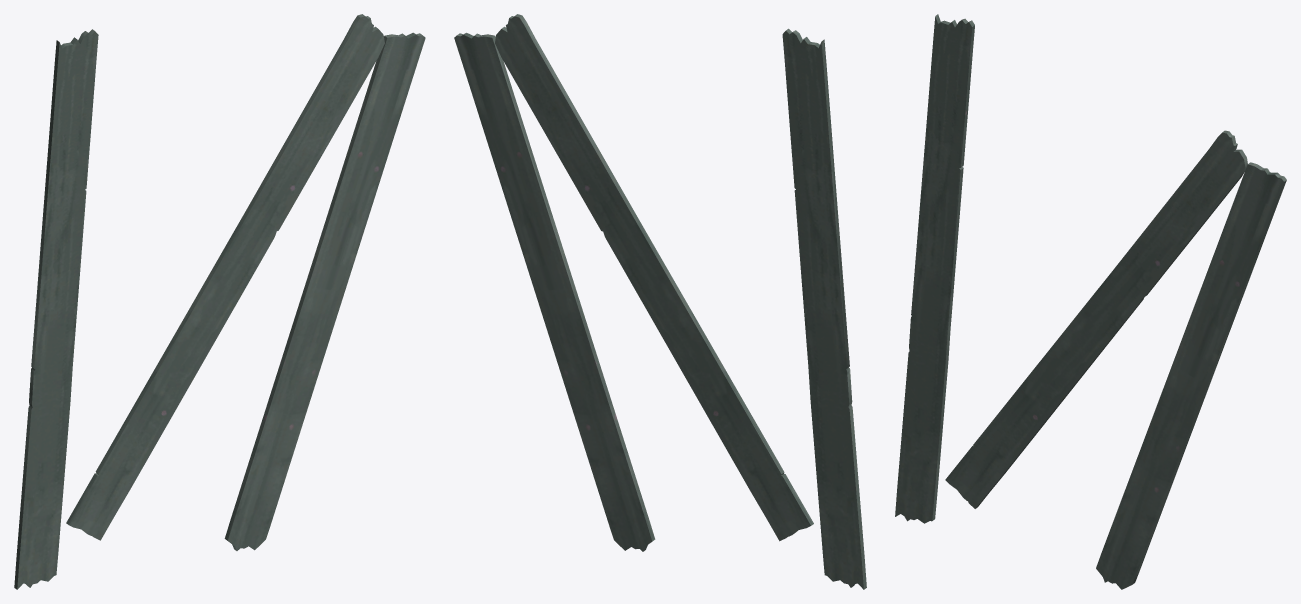
Rendered from SM_ENV_KNFRST_WoodFence_E.FBX.
3 views of the same model, side by side, from view 1: azimuth 30°, elevation 25°; view 2: azimuth 150°, elevation 25°; view 3: azimuth 330°, elevation 25° (orthographic). The views are drawn at different scales.
Parts seen in each view (by area): view 1: SM_ENV_KNFRST_WoodFence_E; view 2: SM_ENV_KNFRST_WoodFence_E; view 3: SM_ENV_KNFRST_WoodFence_E.
Part boxes in pixels (box(x1,y1,x2,y2)): SM_ENV_KNFRST_WoodFence_E: box(14, 14, 425, 589); SM_ENV_KNFRST_WoodFence_E: box(454, 14, 866, 589); SM_ENV_KNFRST_WoodFence_E: box(895, 14, 1286, 589).
Size of the model in its own units: 516 by 674 by 7.57.
